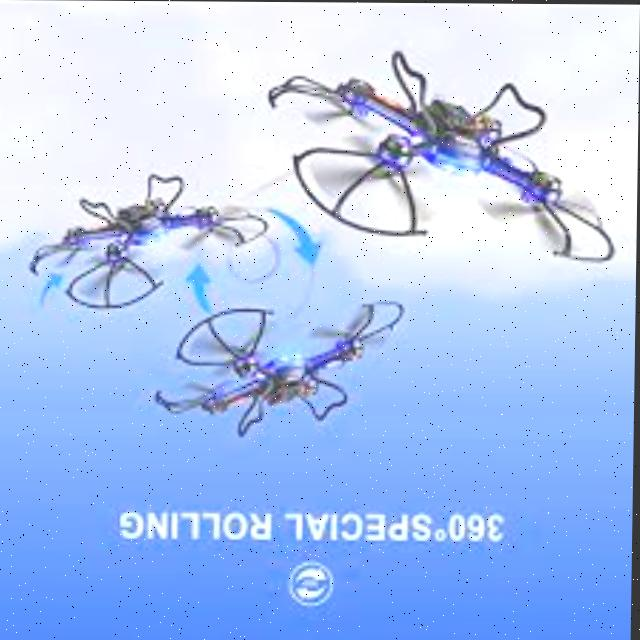drone: (258, 27, 621, 289), (21, 159, 280, 323), (153, 297, 403, 434)
